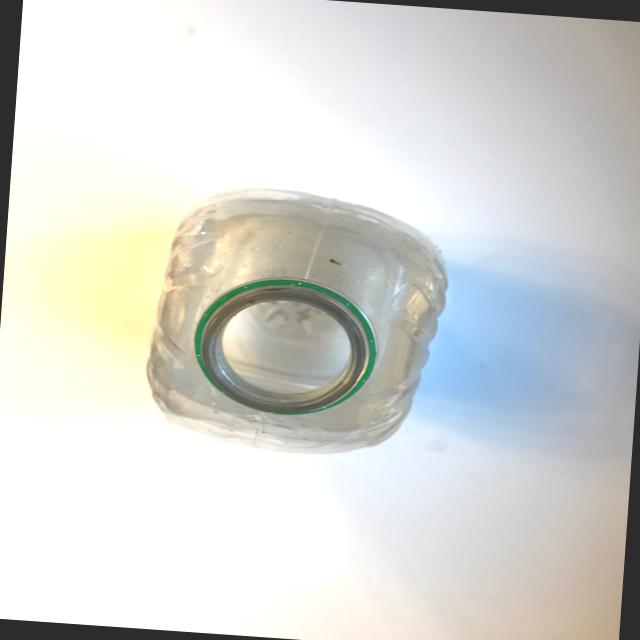Plastic: (94, 156, 490, 487)
